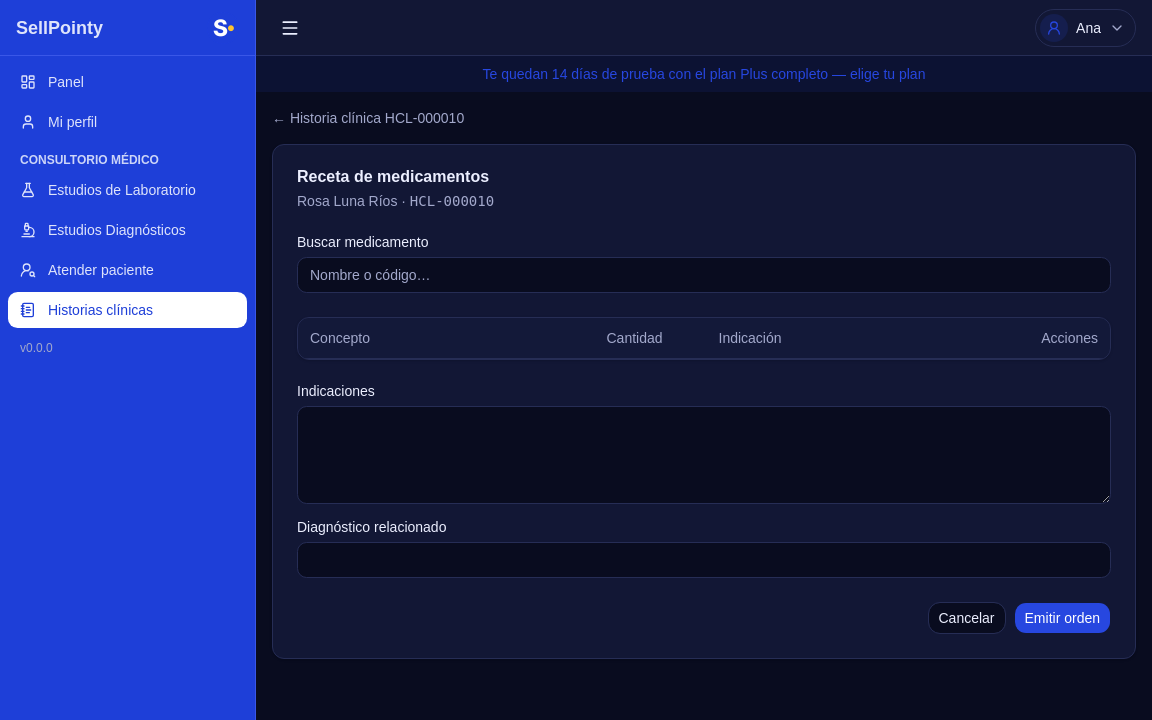
receta de medicamentos (F9-CLINIC-WEB-18) › el buscador de medicamentos tampoco muestra precios
The image size is (1152, 720).
Type "parac" into the search field labelled "Buscar medicamento" at {"x": 704, "y": 275}, box [297, 257, 1111, 293]
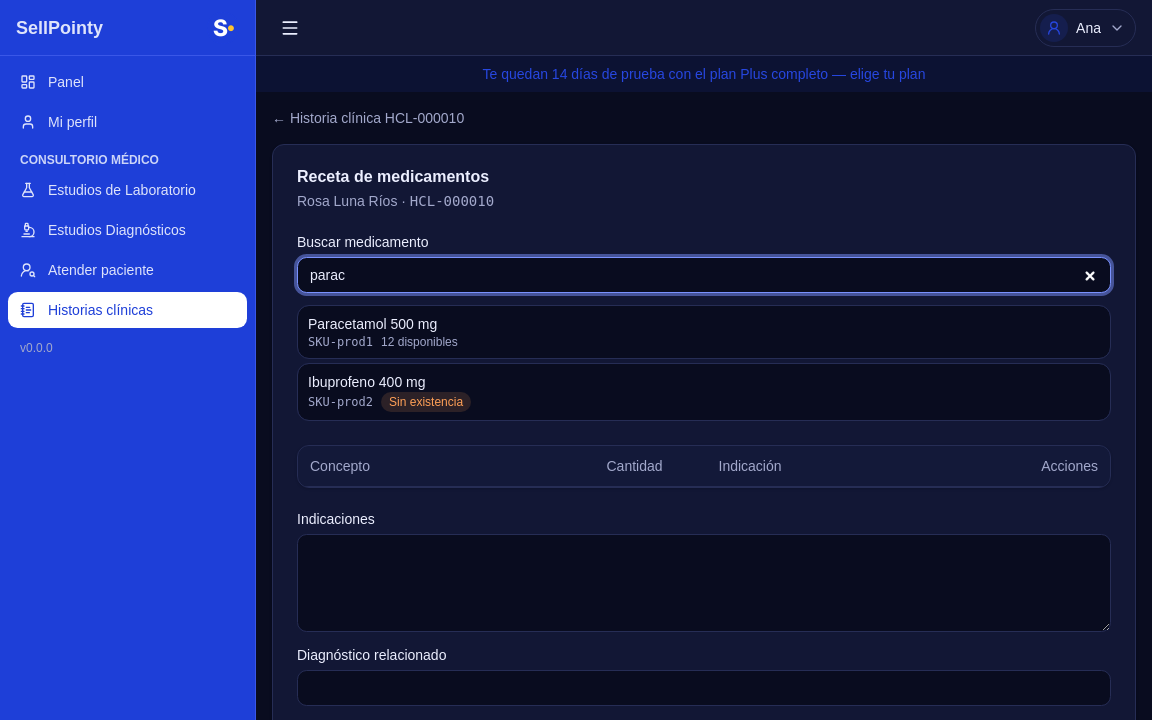
Expected: the list item with test id "medication-prod1" does not show "$", [297, 305, 1111, 359]
Now the list item with test id "medication-prod1" shows "SKU-prod1", box [297, 305, 1111, 359]
